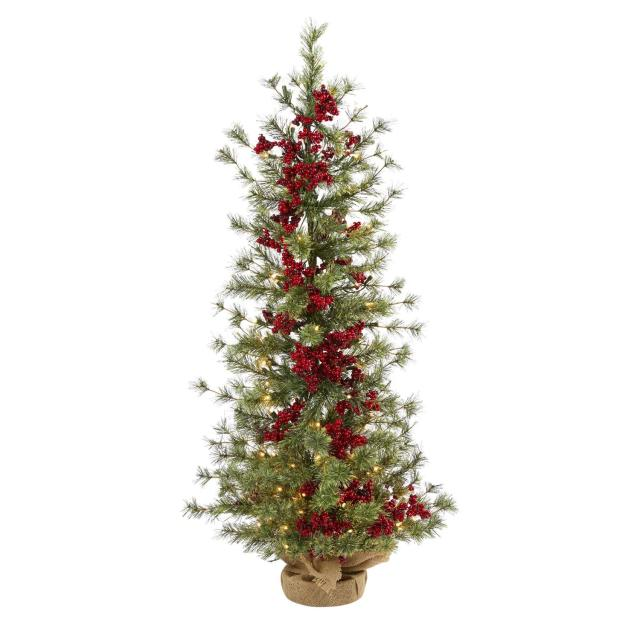Christmas-tree: (155, 3, 472, 555)
